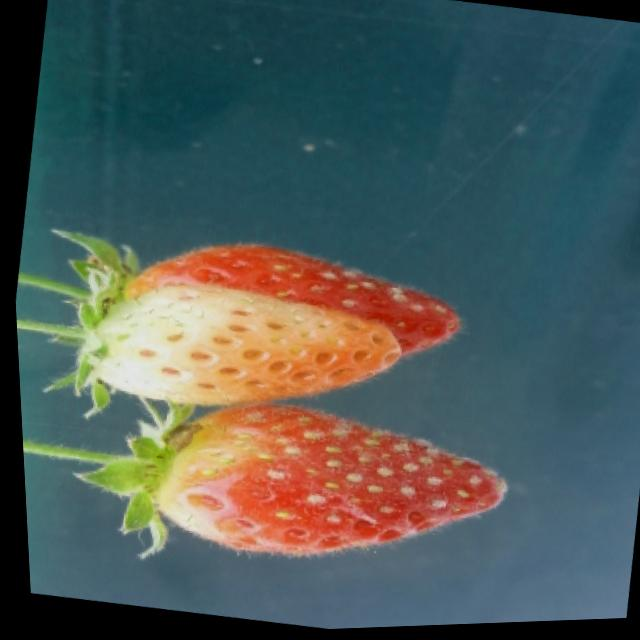Powdery Mildew Fruit: (74, 244, 458, 407), (134, 404, 505, 560)
